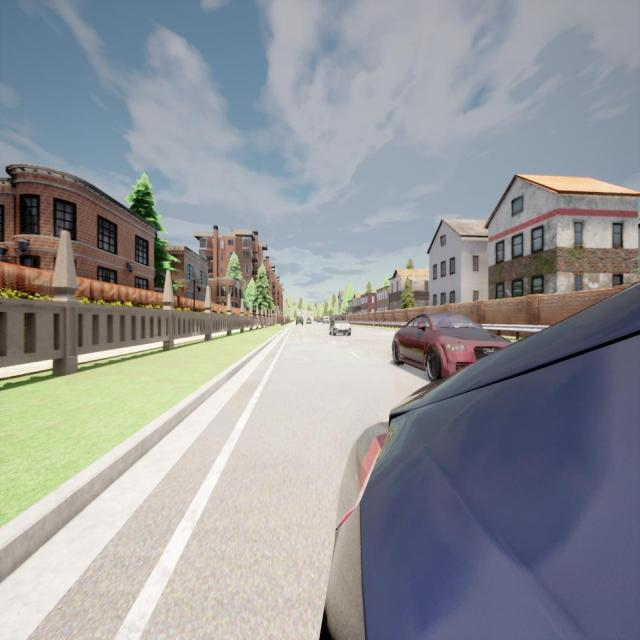Vehicle: (326, 284, 640, 638), (392, 312, 510, 382), (329, 315, 351, 336), (296, 316, 303, 326), (323, 315, 329, 324), (306, 317, 311, 324), (316, 319, 322, 323)
